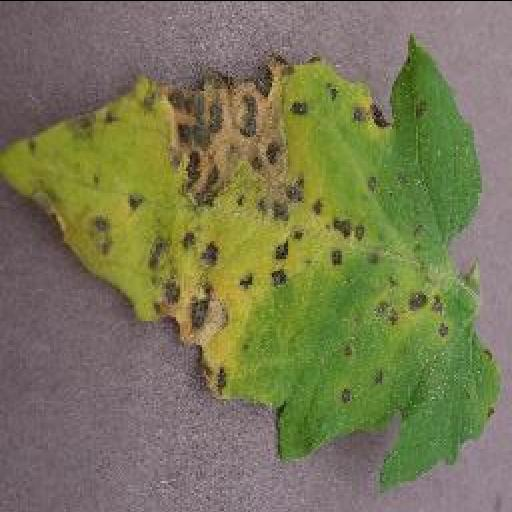disease_tomato: (0, 36, 500, 485)
